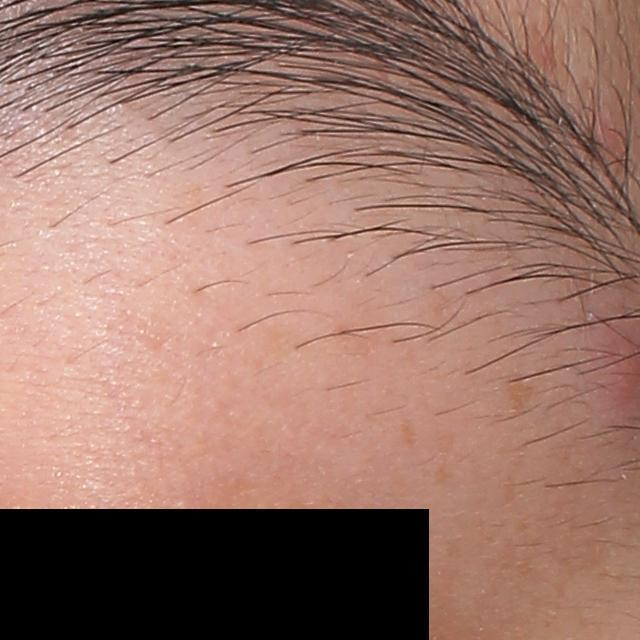melasma: (504, 375, 538, 418), (398, 414, 416, 450)
